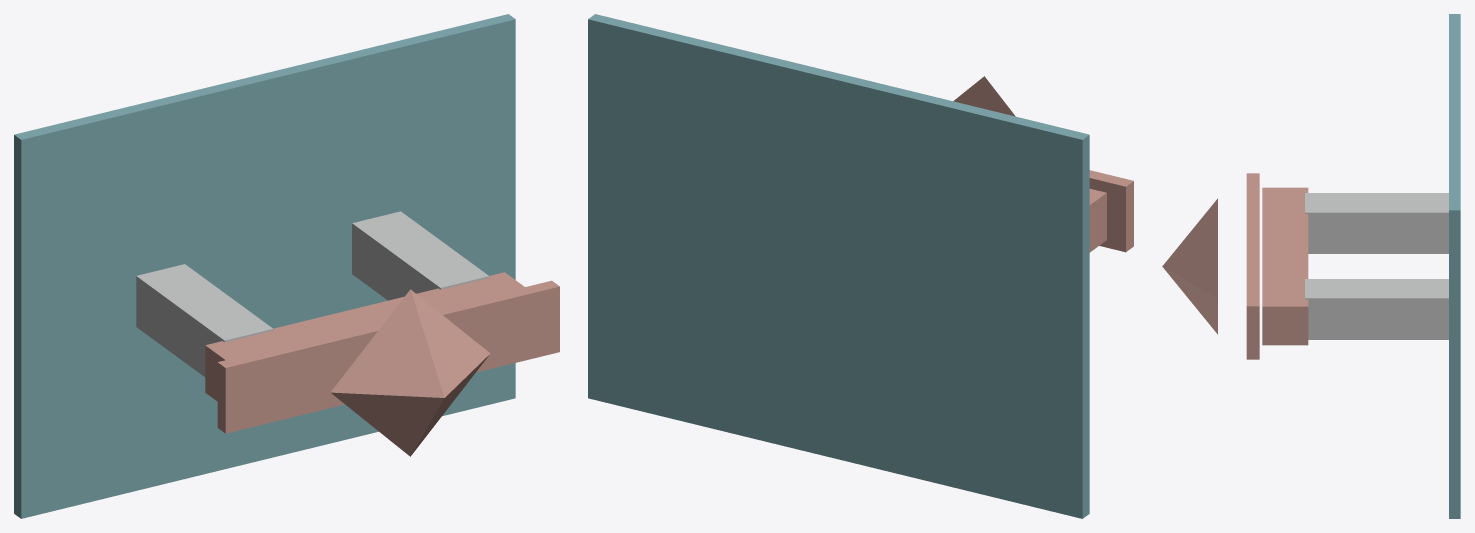
The picture shows the model from 3 angles, left to right: view 1: azimuth 30°, elevation 25°; view 2: azimuth 150°, elevation 25°; view 3: azimuth 270°, elevation 25°; orthographic projection. The views are drawn at different scales.
Parts seen in each view (by area): view 1: section_00, section_04, section_05, section_02, section_03, section_01; view 2: section_00, section_04, section_05, section_01; view 3: section_02, section_03, section_01, section_00, section_05, section_04.
Boxes of the visible parts, <box> form: section_00: <box>14,14,515,518</box>; section_04: <box>217,280,559,433</box>; section_05: <box>330,289,490,456</box>; section_02: <box>136,264,273,376</box>; section_03: <box>352,211,489,300</box>; section_01: <box>205,272,524,401</box>; section_00: <box>588,14,1089,518</box>; section_04: <box>1089,170,1133,252</box>; section_05: <box>953,76,1015,116</box>; section_01: <box>1089,188,1106,252</box>; section_02: <box>1305,193,1448,253</box>; section_03: <box>1305,279,1448,339</box>; section_01: <box>1262,187,1308,345</box>; section_00: <box>1449,14,1460,518</box>; section_05: <box>1162,198,1217,334</box>; section_04: <box>1246,173,1259,359</box>.
Size of the model in its own units: 7.1 by 5.2 by 4.56.
